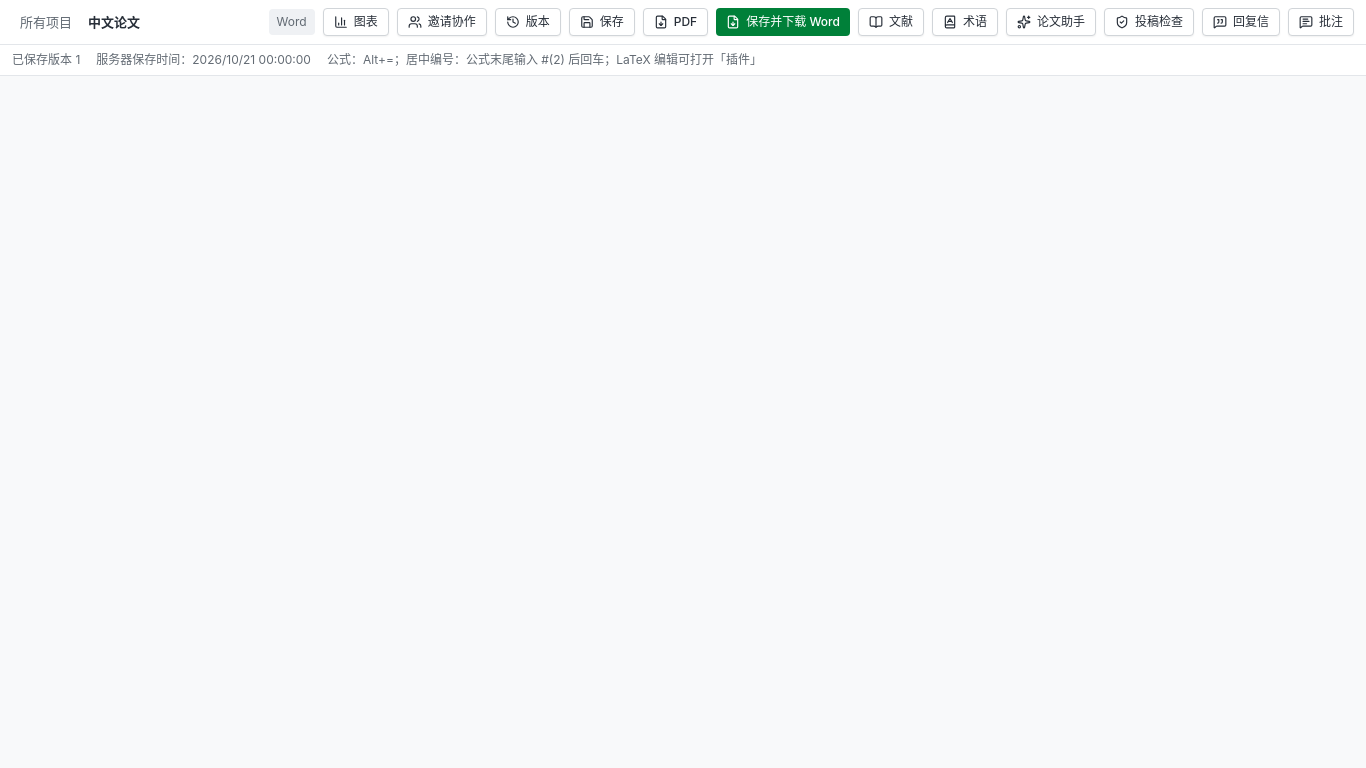
Word 文献面板「按出现顺序重排引用」（P1-0-B） › changed=false 幂等：提示无需修改，不重载编辑器
Click the button "文献".
click(891, 22)  # box [858,8,924,36]
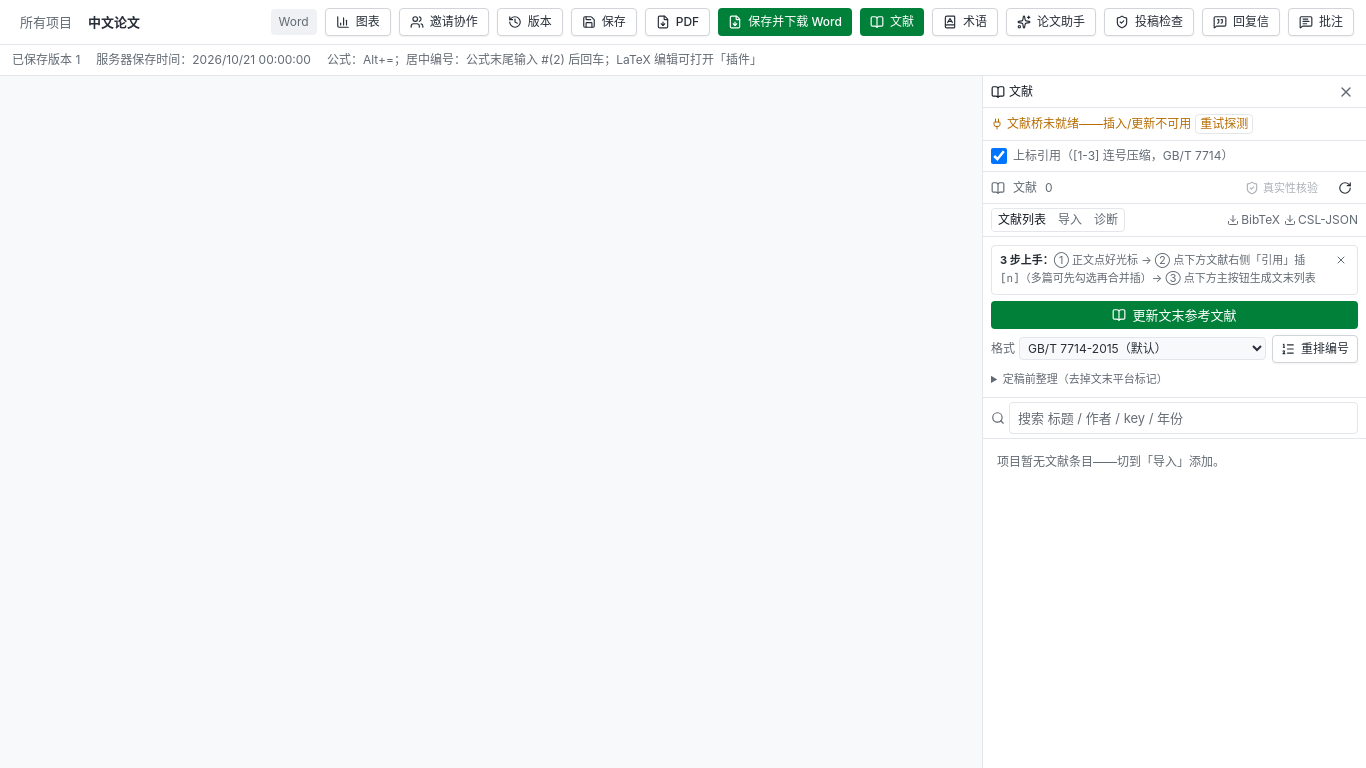
Click the button with test id "library-renumber-citations".
click(1315, 349)  # box [1272,335,1358,363]
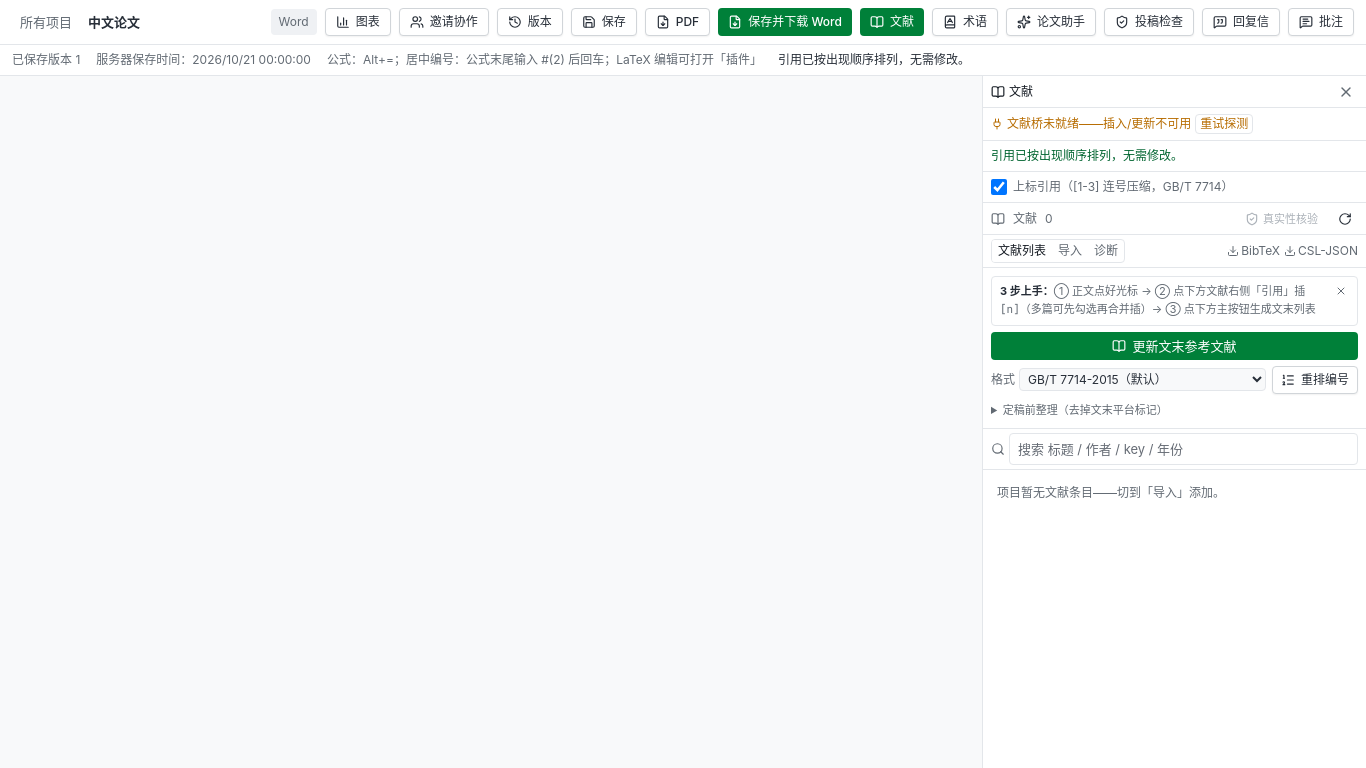
Result: the text "引用已按出现顺序排列，无需修改" is shown at [778,52,970,67]
